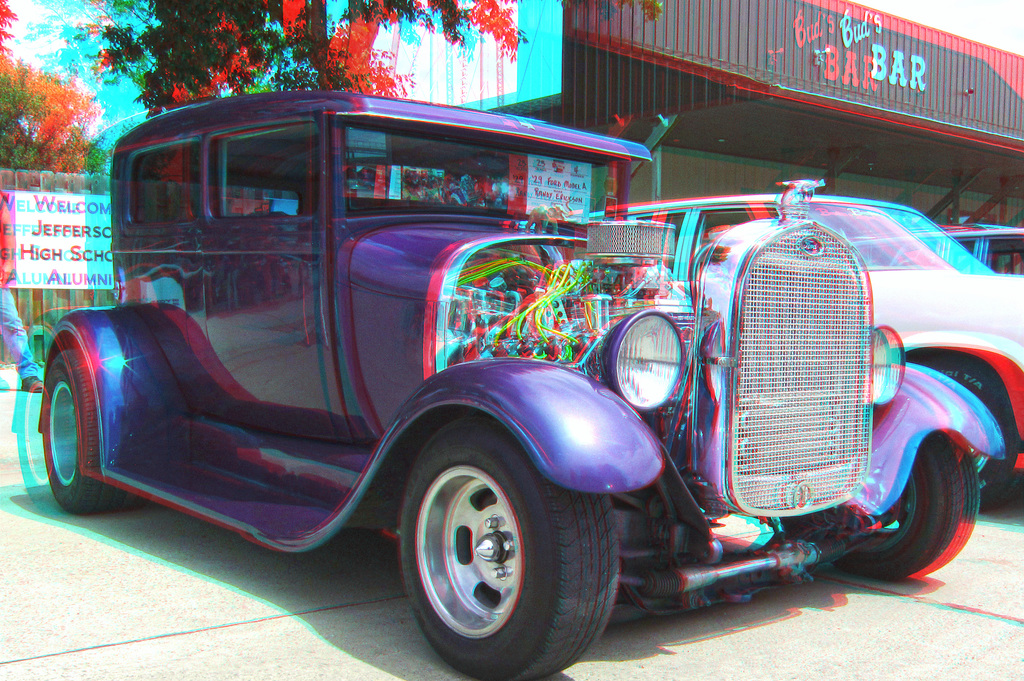mobil: (80, 117, 1001, 651)
